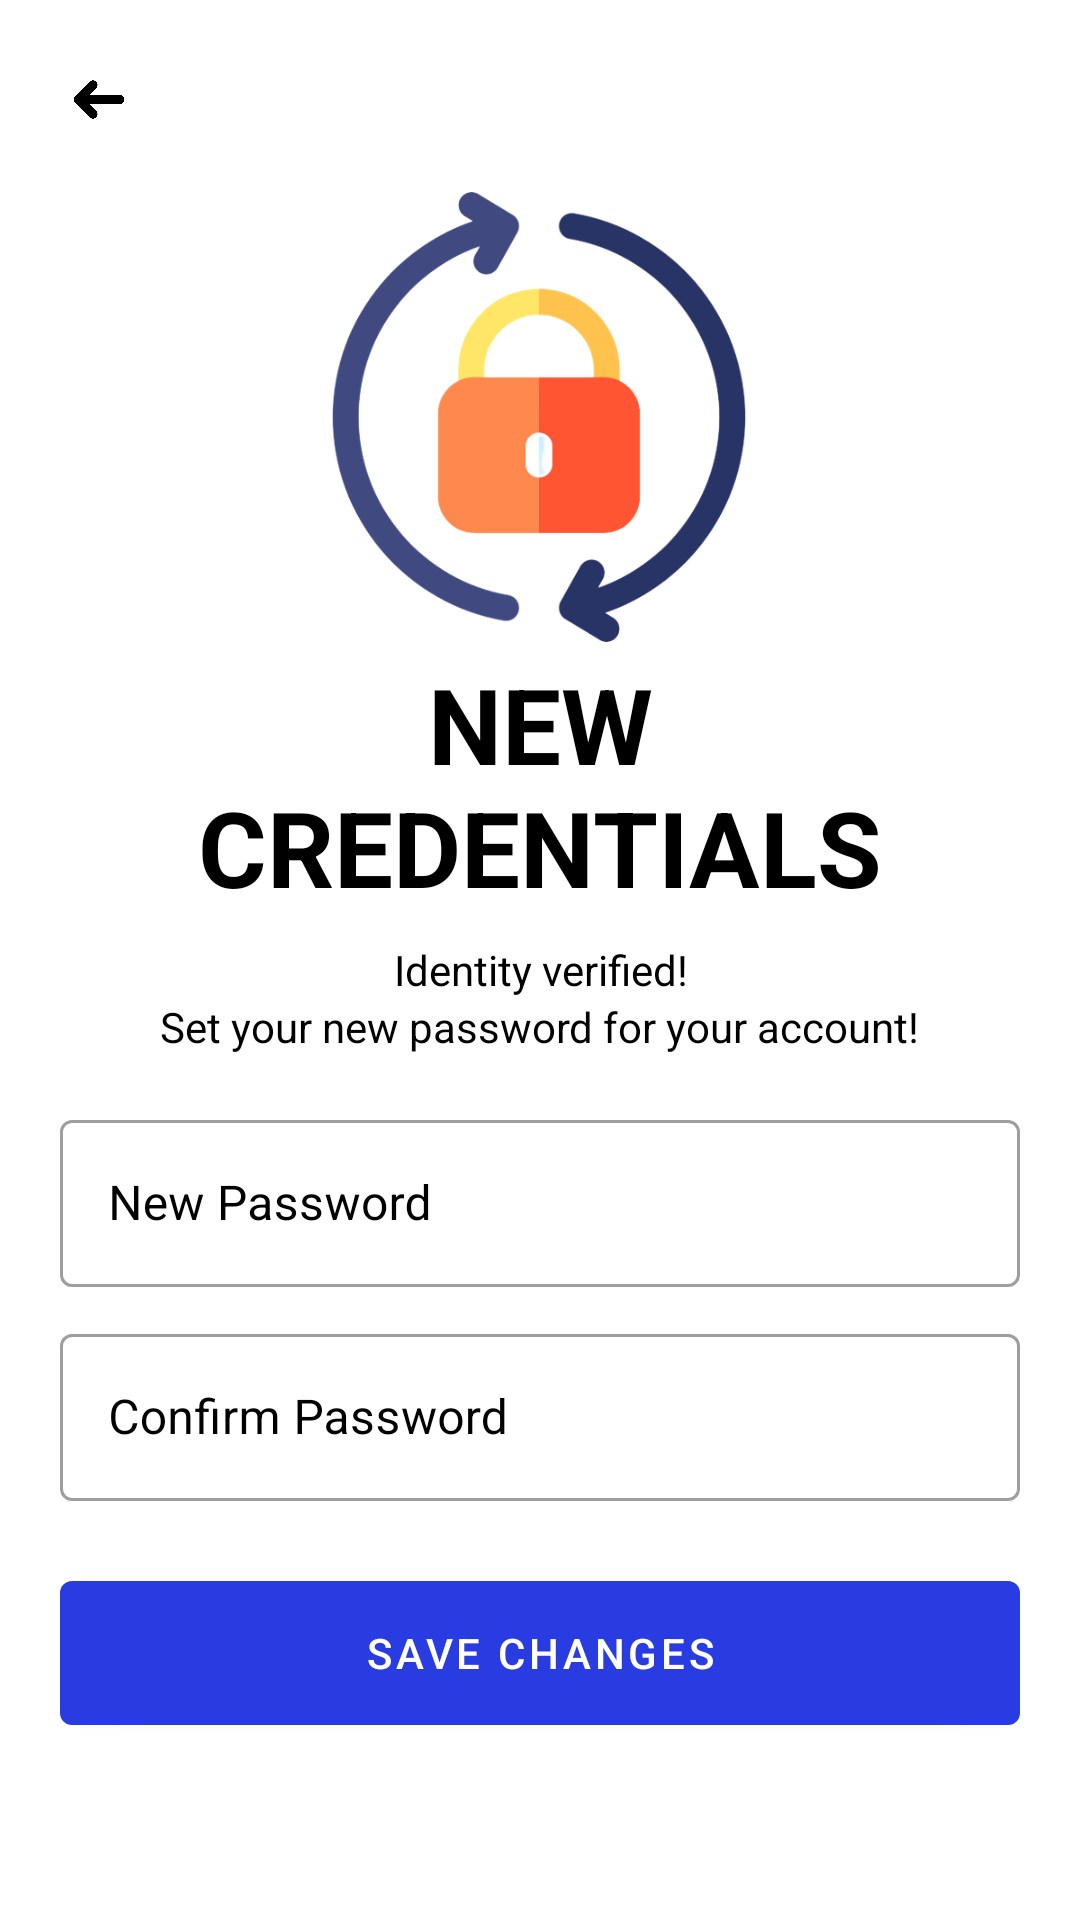

Named icons in this screenshot (1080x1920) and their centers, (x,y):
backbutton: (99,99)
